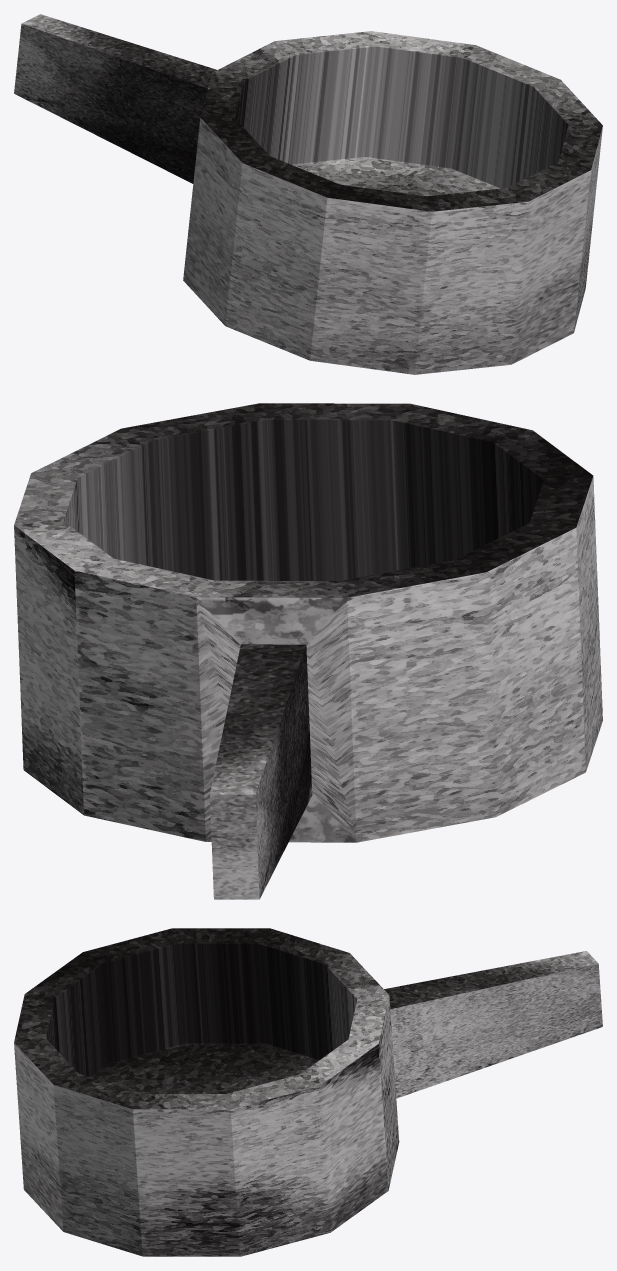
File: panela.fbx
3 renders of one model, top to bottom at view 1: azimuth 30°, elevation 25°; view 2: azimuth 150°, elevation 25°; view 3: azimuth 270°, elevation 25°, orthographic. The views are drawn at different scales.
Parts seen in each view (by area): view 1: panela.007; view 2: panela.007; view 3: panela.007.
Boxes of the visible parts, x1,y1,x2,y2 form: panela.007: [14, 14, 602, 374]; panela.007: [14, 403, 602, 899]; panela.007: [14, 928, 602, 1256].
Bounding box in the file's own units: 21.15 × 11.1 × 32.09.
1 material, 1 textured.
